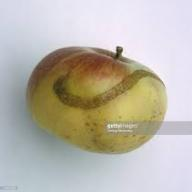apple: (28, 45, 170, 150)
